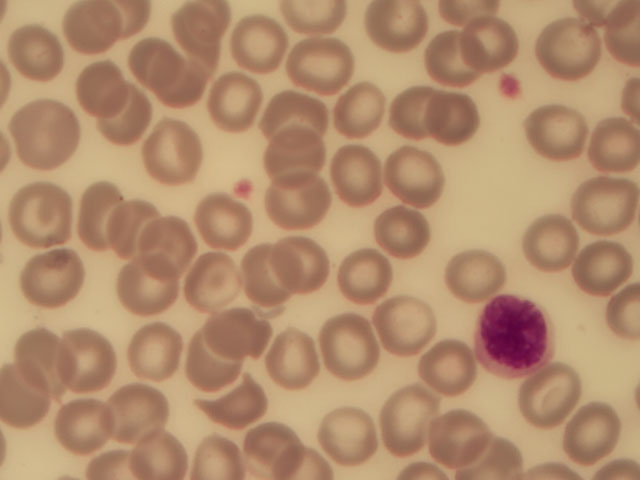Platelets: (496, 74, 526, 98), (230, 179, 256, 198)
RBC: (59, 1, 123, 61), (3, 23, 67, 83), (10, 106, 74, 166), (64, 52, 128, 112), (94, 84, 158, 144), (118, 31, 182, 91), (146, 56, 210, 116), (231, 15, 295, 75), (203, 77, 267, 137), (147, 126, 211, 186), (63, 185, 127, 245), (9, 183, 73, 243), (21, 244, 85, 304), (102, 198, 166, 258), (131, 217, 195, 277), (116, 269, 180, 329), (190, 193, 254, 253), (175, 255, 239, 315), (205, 301, 269, 361), (183, 331, 247, 391), (121, 321, 185, 381), (63, 329, 127, 389), (17, 328, 81, 388), (48, 393, 112, 453), (106, 383, 170, 443), (132, 420, 196, 480), (177, 420, 241, 480), (202, 379, 266, 439), (264, 330, 328, 390), (232, 244, 296, 304), (278, 239, 342, 299), (268, 171, 332, 231), (266, 127, 330, 187), (264, 87, 328, 147), (293, 34, 357, 94), (332, 80, 396, 140), (327, 141, 391, 201), (392, 142, 456, 202), (371, 200, 435, 260), (332, 240, 396, 300), (372, 293, 436, 353), (318, 314, 382, 374), (317, 406, 381, 466), (242, 420, 306, 480), (376, 389, 440, 449), (410, 338, 474, 398), (422, 406, 486, 466), (518, 368, 582, 428), (553, 401, 617, 461), (576, 242, 640, 302), (511, 213, 575, 273), (445, 245, 509, 305), (575, 172, 639, 232), (576, 121, 640, 181), (527, 102, 591, 162), (535, 23, 599, 83), (469, 15, 533, 75), (423, 26, 487, 86), (432, 88, 496, 148), (393, 85, 457, 145), (176, 1, 240, 60), (362, 1, 426, 60)
WBC: (478, 295, 559, 380)
